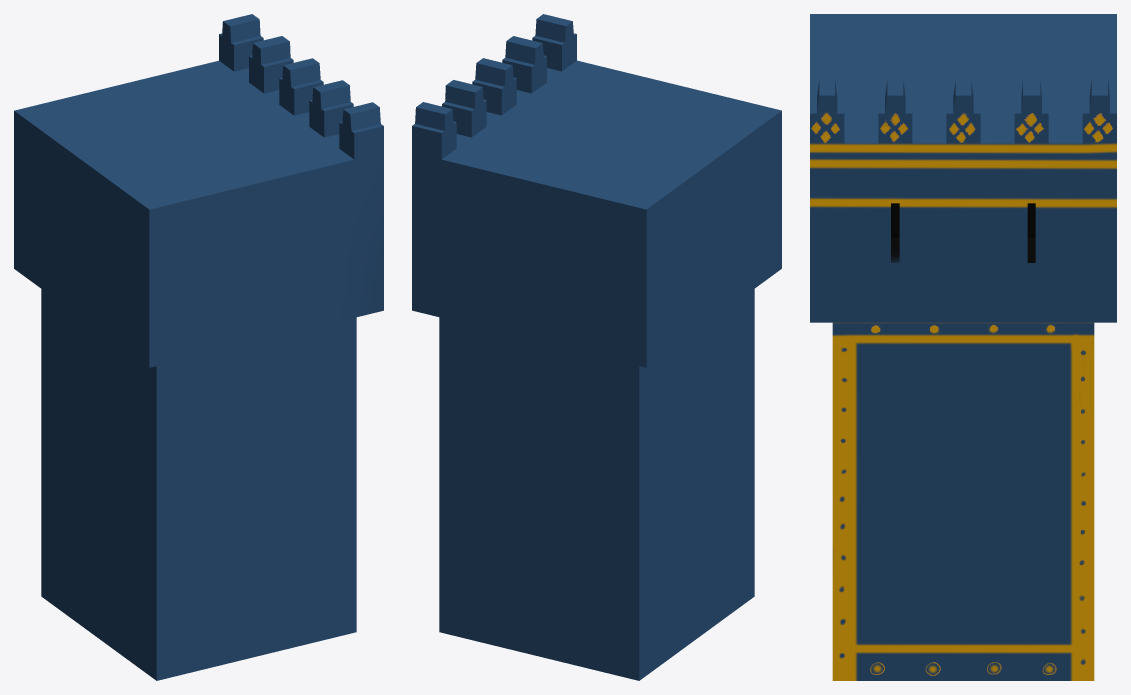
The model's file is building.fbx.
The picture shows the model from 3 angles, left to right: view 1: azimuth 30°, elevation 25°; view 2: azimuth 150°, elevation 25°; view 3: azimuth 270°, elevation 25°; orthographic projection. The views are drawn at different scales.
Visible parts, largest first — view 1: Cube; view 2: Cube; view 3: Cube.
Part boxes in pixels (x1,y1,x2,y2): Cube: (14,14,383,680); Cube: (412,14,781,680); Cube: (810,14,1116,680).
Size of the model in its own units: 673 by 1440 by 673.
